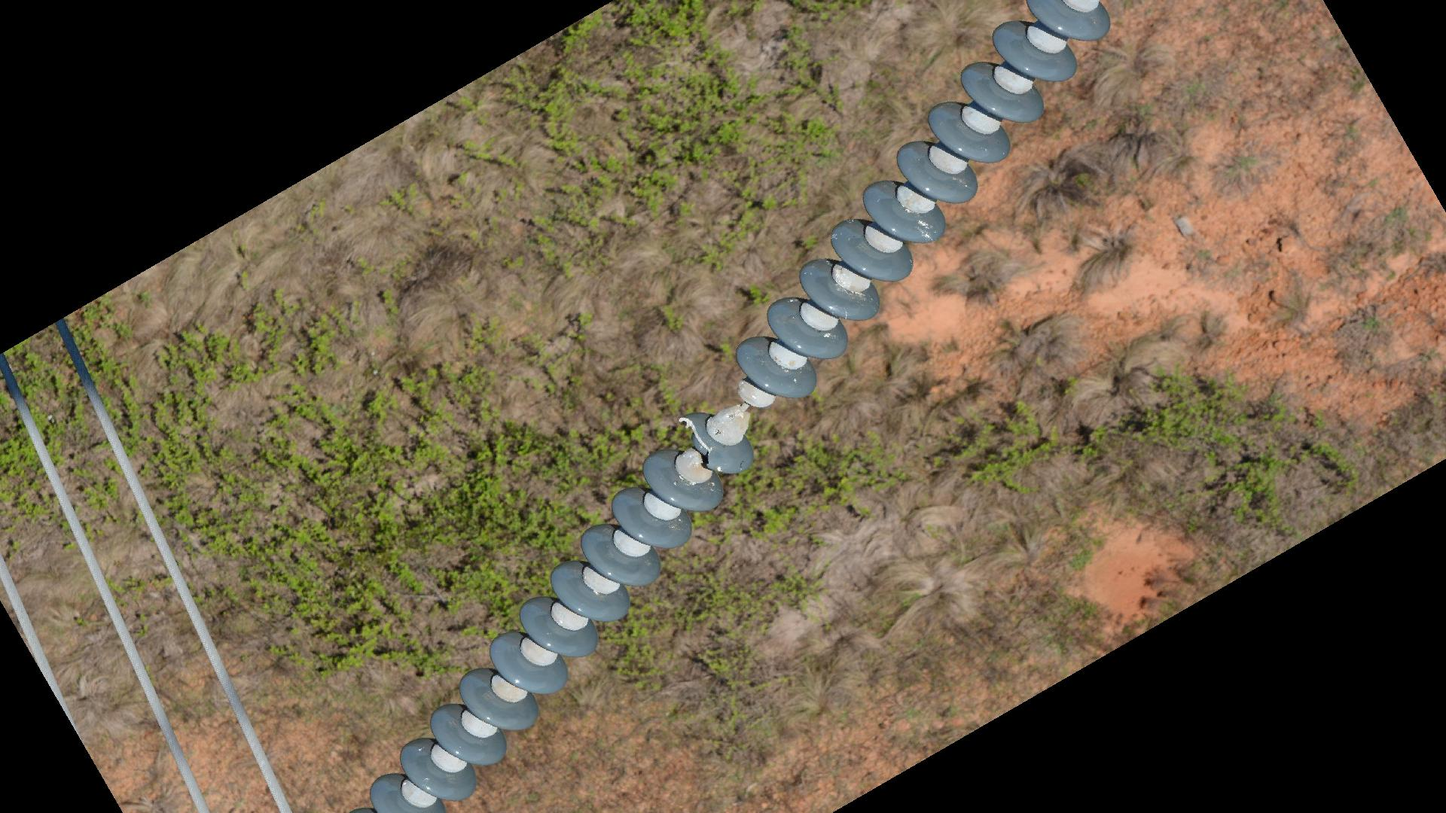insulator: (340, 405, 758, 813), (729, 1, 1116, 407)
insulator_breakage: (675, 413, 716, 470)
